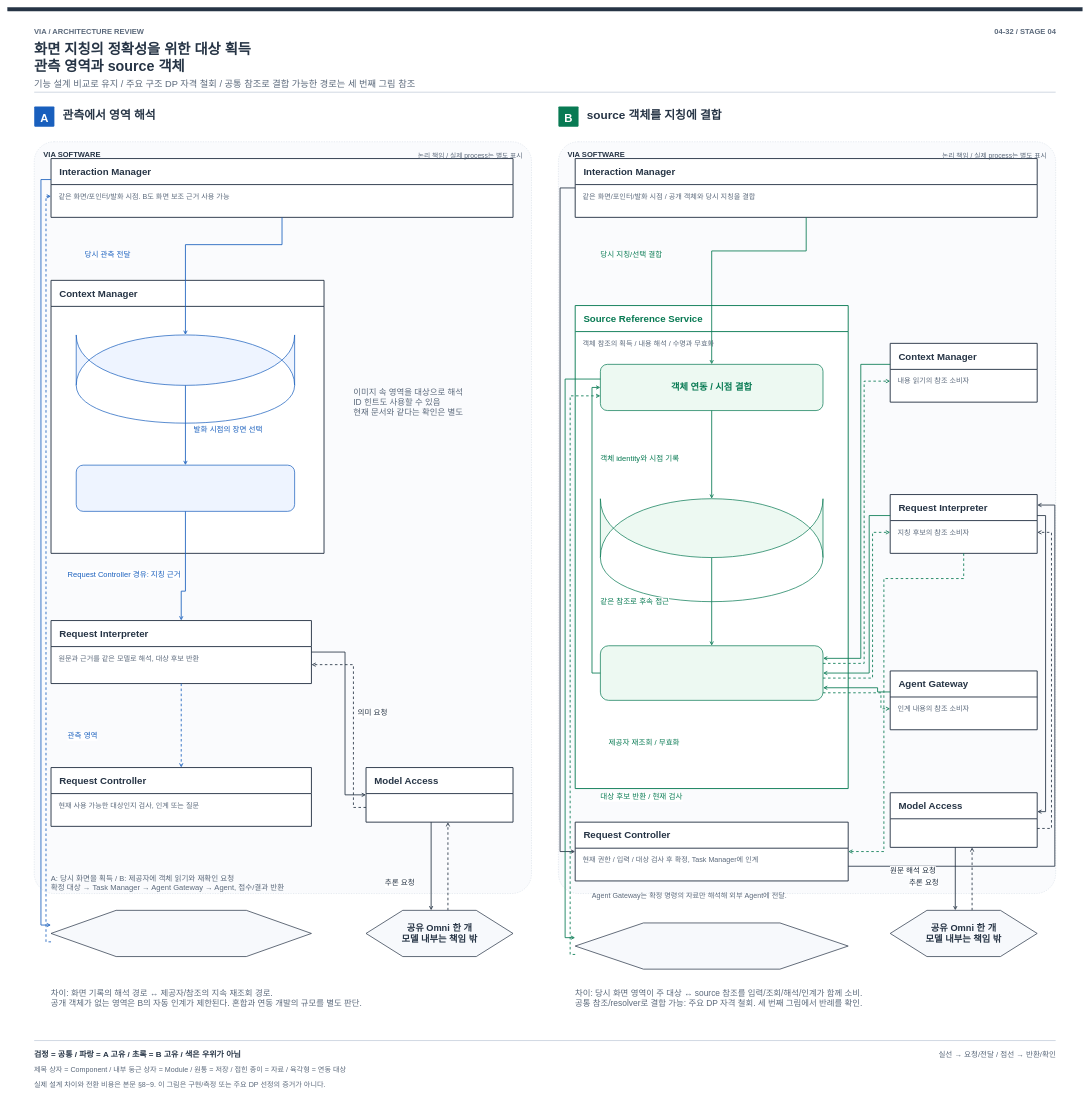
The diagram is 1089 pixels wide and 1098 high, and some of its shapes have lost their labels. Each missing label, with the centre of its shape:
"같은 앱 / 문서 source 객체 읽기 / 선택 및 버전 / 재확인" goes at point (711, 945).
"같은 앱 / 문서 환경 화면 관측과 공개 객체 읽기" goes at point (181, 933).
"관측 조립" goes at point (185, 488).
"시점별 화면 / 포인터 유한 RAM 기록" goes at point (185, 360).
"제공자 / 문서 / 객체 / 버전 공유 참조 기록" goes at point (711, 528).
"참조 해석 / 현재 유효성 확인" goes at point (711, 673).
